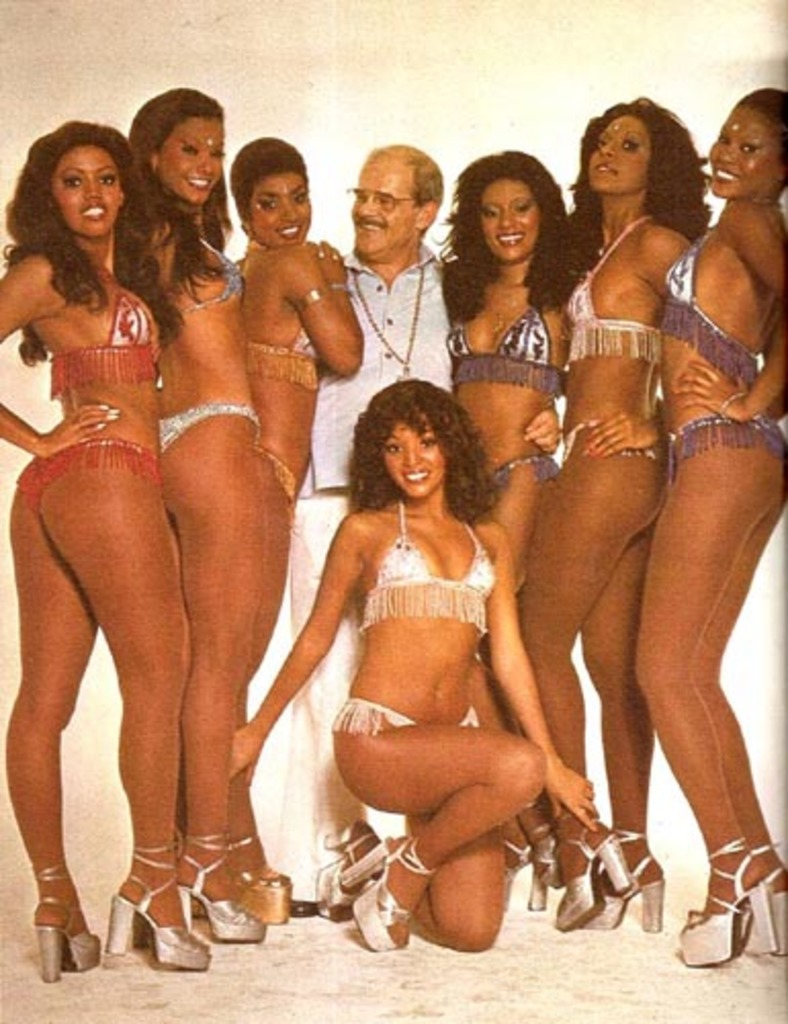person: (438, 145, 576, 595)
